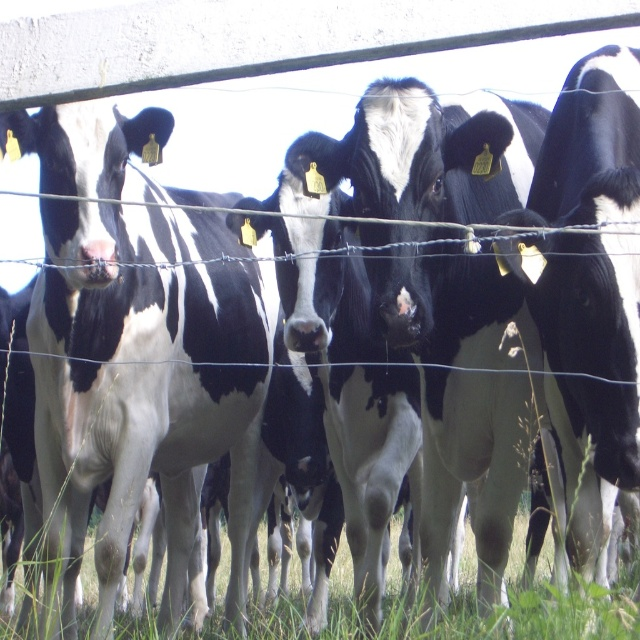Cattle: (0, 45, 640, 640)
